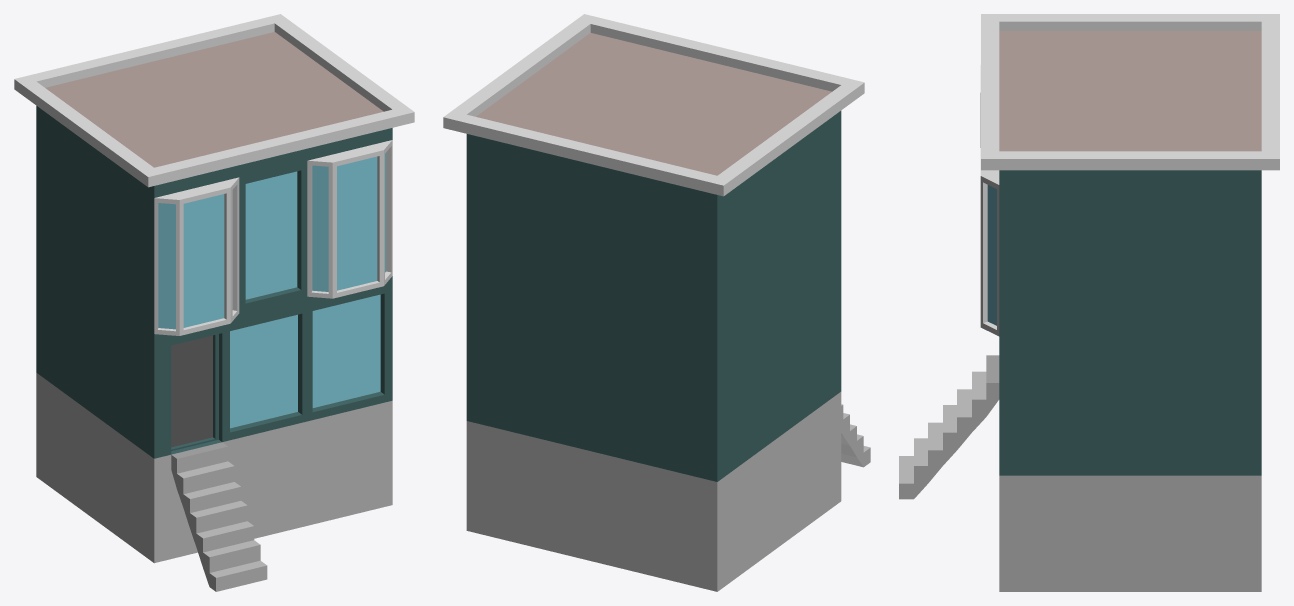
3 renders of one model, left to right at view 1: azimuth 30°, elevation 25°; view 2: azimuth 150°, elevation 25°; view 3: azimuth 270°, elevation 25°, orthographic. The views are drawn at different scales.
Parts seen in each view (by area): view 1: pCube29; view 2: pCube29; view 3: pCube29.
Part boxes in pixels (x1,y1,x2,y2): pCube29: [14, 14, 414, 591]; pCube29: [443, 14, 870, 591]; pCube29: [899, 14, 1279, 591].
Size of the model in its own units: 626 by 888 by 695.
